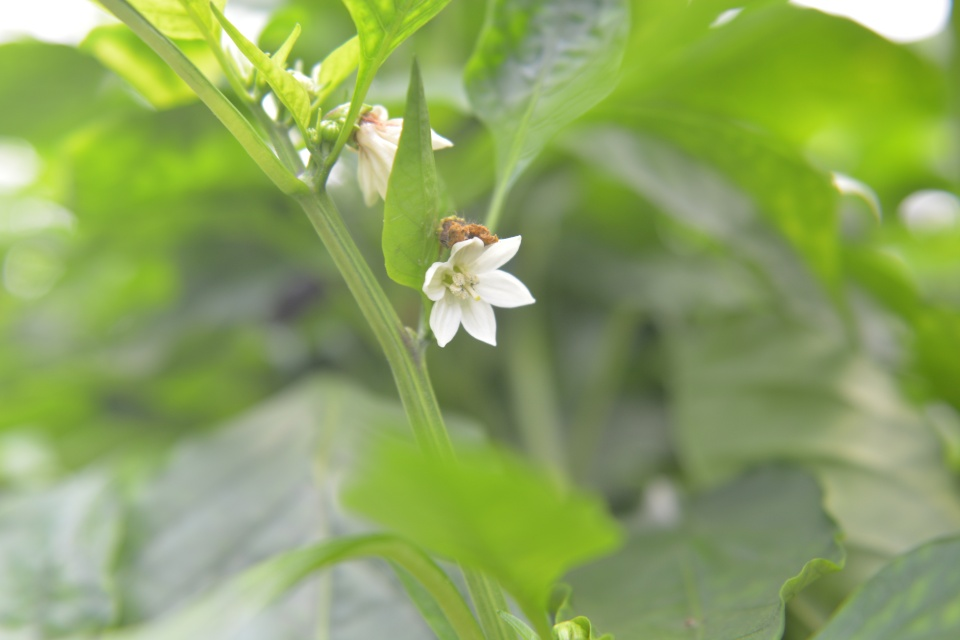flower: (419, 232, 538, 350), (353, 101, 458, 209)
